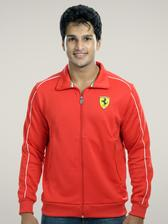clothoes: (14, 63, 155, 219)
